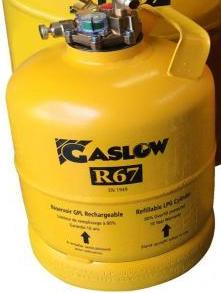cylinder: (1, 0, 221, 293)
